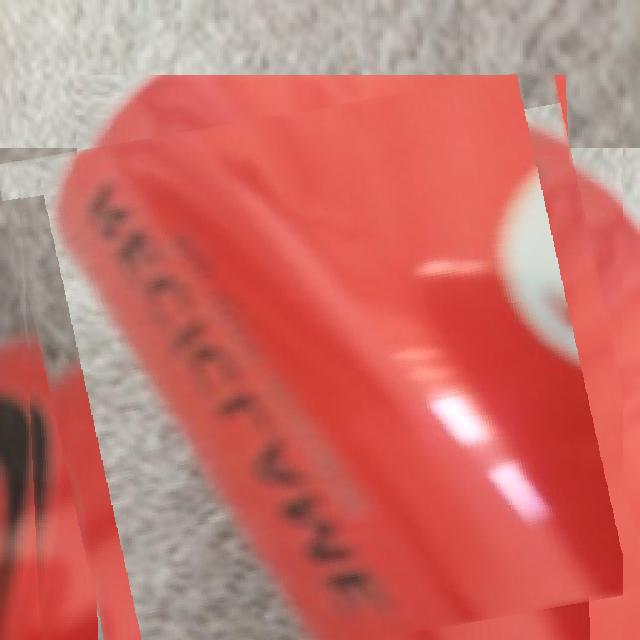recyclable: (16, 88, 623, 640)
